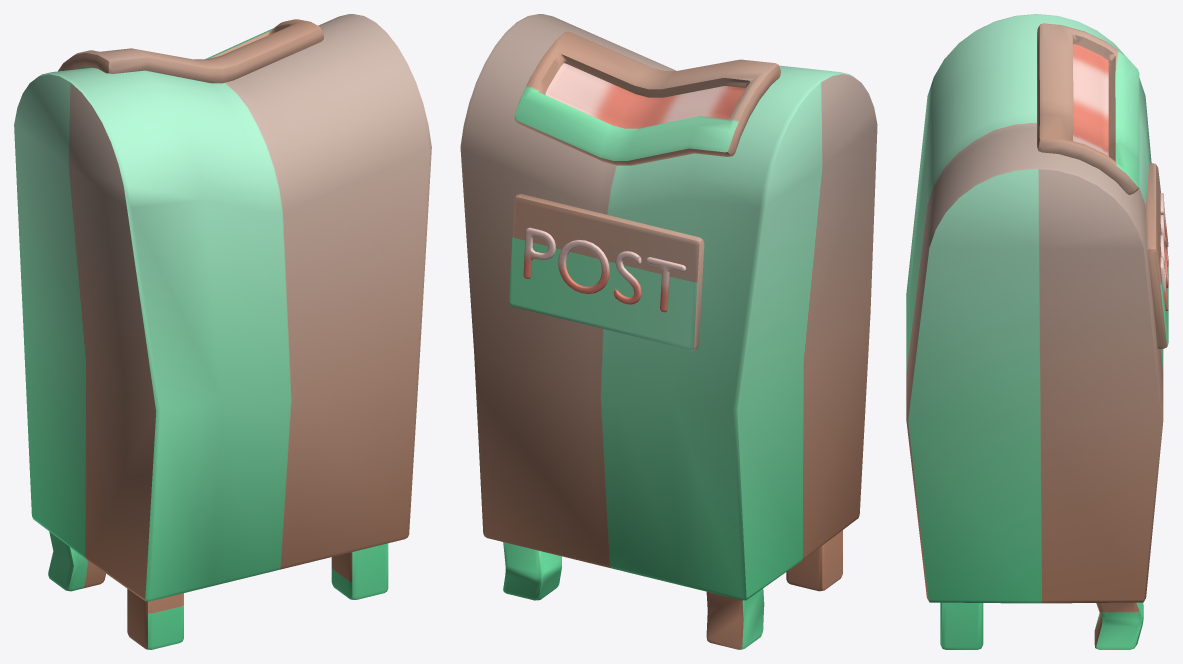
File: MailboxB_yellow.fbx
The picture shows the model from 3 angles, left to right: view 1: azimuth 30°, elevation 25°; view 2: azimuth 150°, elevation 25°; view 3: azimuth 270°, elevation 25°; orthographic projection. The views are drawn at different scales.
Visible parts, largest first — view 1: MailboxB_base.002, MailboxB_stands.002, MailboxB_detail.002; view 2: MailboxB_base.002, MailboxB_detail.002, MailboxB_stands.002; view 3: MailboxB_base.002, MailboxB_detail.002, MailboxB_stands.002.
Part boxes in pixels (left/top/right/bottom): MailboxB_base.002: left=14, top=14, right=431, bottom=601; MailboxB_stands.002: left=48, top=531, right=388, bottom=649; MailboxB_detail.002: left=58, top=19, right=323, bottom=83; MailboxB_base.002: left=460, top=14, right=877, bottom=600; MailboxB_detail.002: left=509, top=31, right=780, bottom=350; MailboxB_stands.002: left=503, top=530, right=842, bottom=649; MailboxB_base.002: left=906, top=14, right=1163, bottom=603; MailboxB_detail.002: left=1037, top=23, right=1168, bottom=349; MailboxB_stands.002: left=940, top=602, right=1143, bottom=649.
Bounding box in the file's own units: 137 × 235 × 107.
